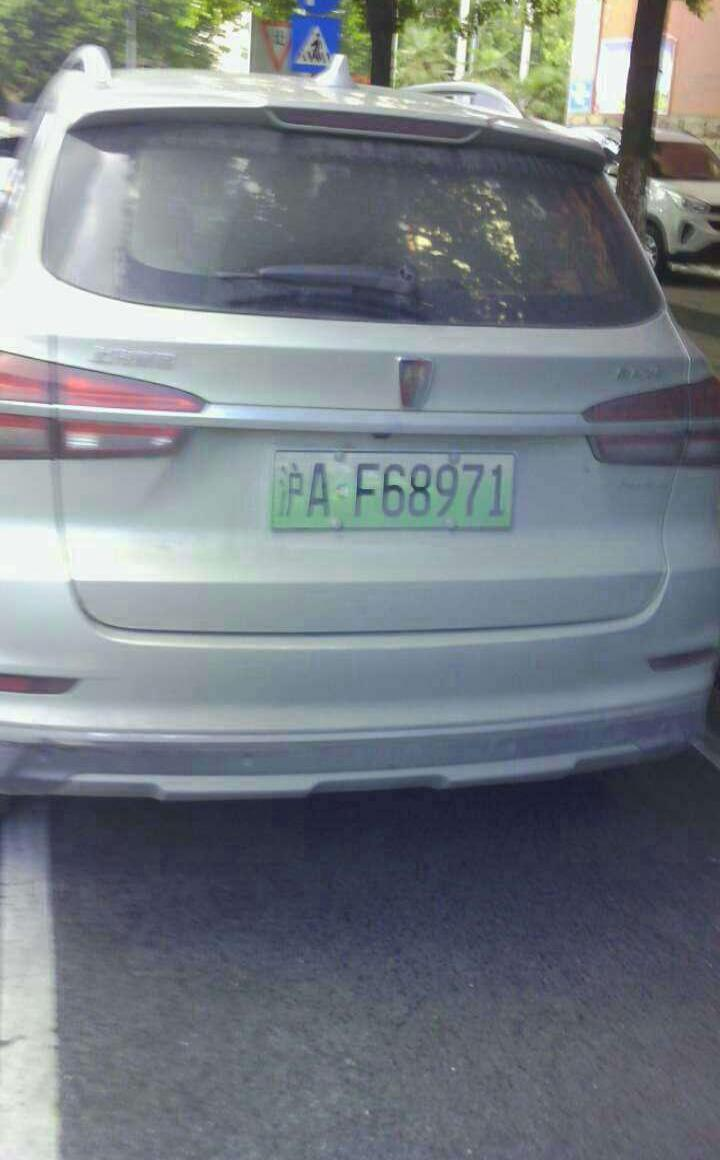car_id: (271, 448, 520, 525)
